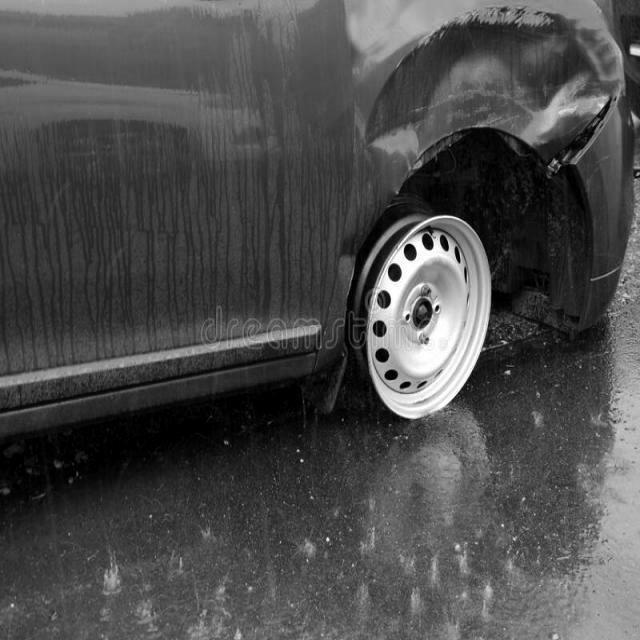fender-dent: (342, 1, 612, 150)
